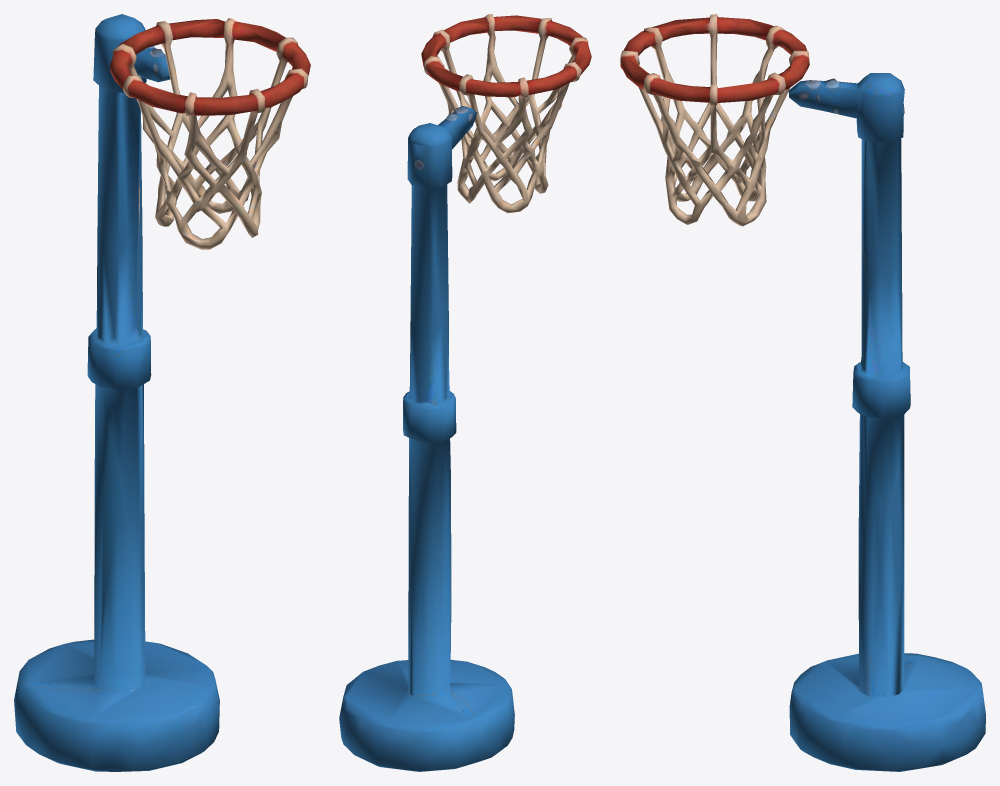
The model's file is netball.glb.
3 views of the same model, side by side, from view 1: azimuth 30°, elevation 25°; view 2: azimuth 150°, elevation 25°; view 3: azimuth 270°, elevation 25° (orthographic). The views are drawn at different scales.
Parts seen in each view (by area): view 1: model; view 2: model; view 3: model.
Boxes of the visible parts, bbox=[...] form: model: bbox=[14, 14, 310, 771]; model: bbox=[339, 14, 591, 771]; model: bbox=[620, 14, 985, 771].
Size of the model in its own units: 0.4684 by 1.9 by 0.9184.
1 material, 1 textured.
